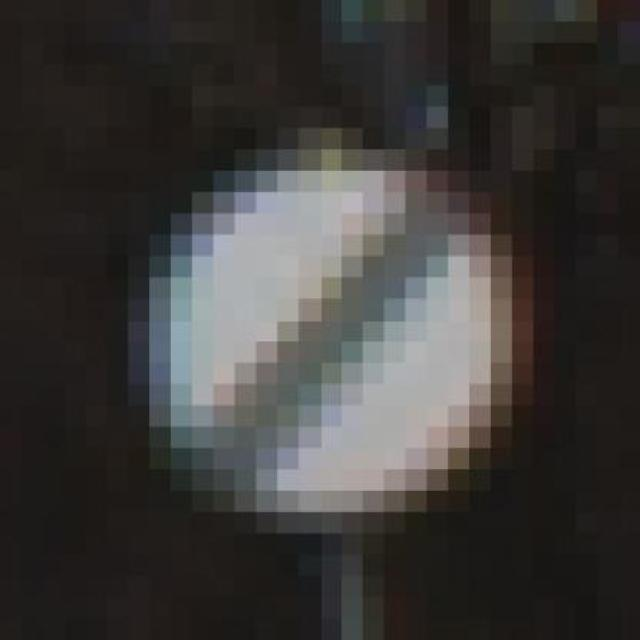End of all speed and passing limits: (149, 128, 534, 555)
